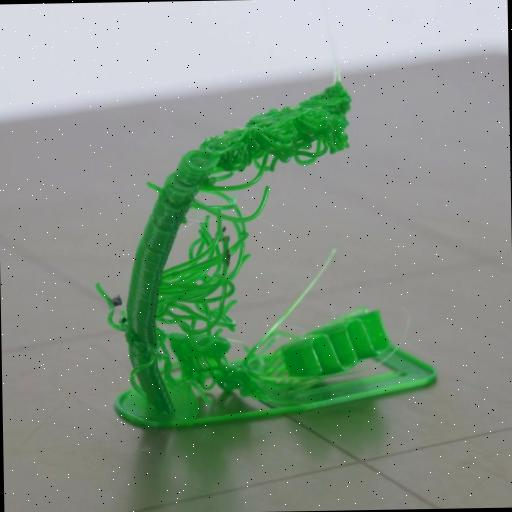spaghetti: (165, 203, 289, 417), (200, 68, 355, 195)
